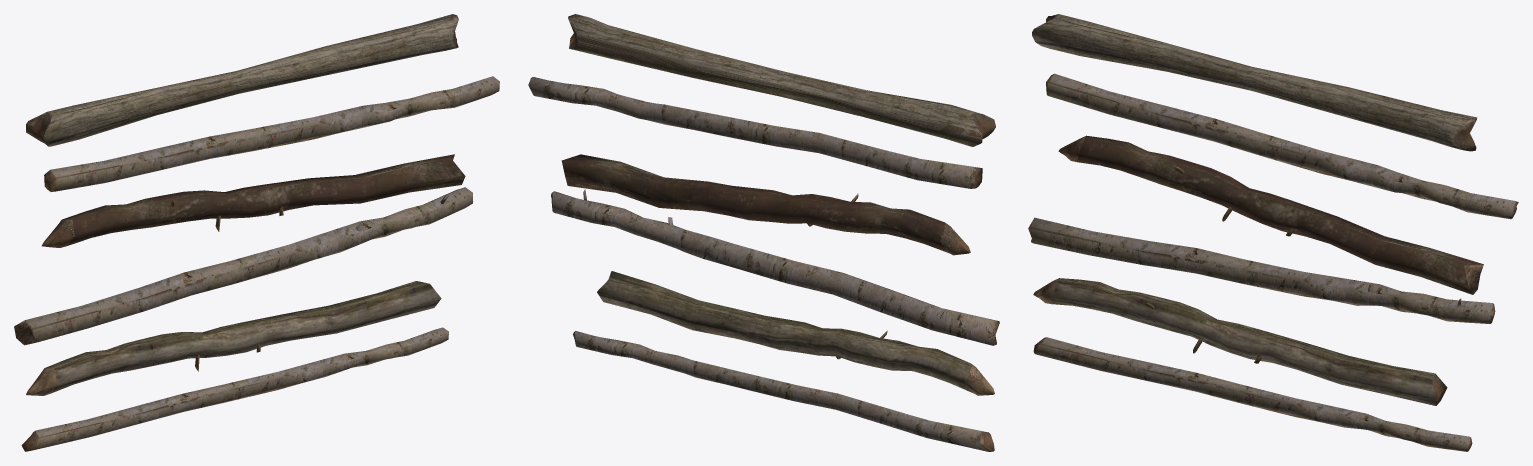
Rendered from GEN_PRO_ConveyedWood_02A_LOD0-transformed.glb.
3 views of the same model, side by side, from view 1: azimuth 30°, elevation 25°; view 2: azimuth 150°, elevation 25°; view 3: azimuth 330°, elevation 25° (orthographic). The views are drawn at different scales.
Visible parts, largest first — view 1: GEN_PRO_ConveyedWood_02A_LOD0; view 2: GEN_PRO_ConveyedWood_02A_LOD0; view 3: GEN_PRO_ConveyedWood_02A_LOD0.
Part boxes in pixels (x1=…): GEN_PRO_ConveyedWood_02A_LOD0: x1=14, y1=14, x2=499, y2=451; GEN_PRO_ConveyedWood_02A_LOD0: x1=528, y1=14, x2=999, y2=451; GEN_PRO_ConveyedWood_02A_LOD0: x1=1028, y1=14, x2=1518, y2=451.
Size of the model in its own units: 0.0415 by 0.0279 by 0.00357.
Materials: 2 (2 with a texture image).
